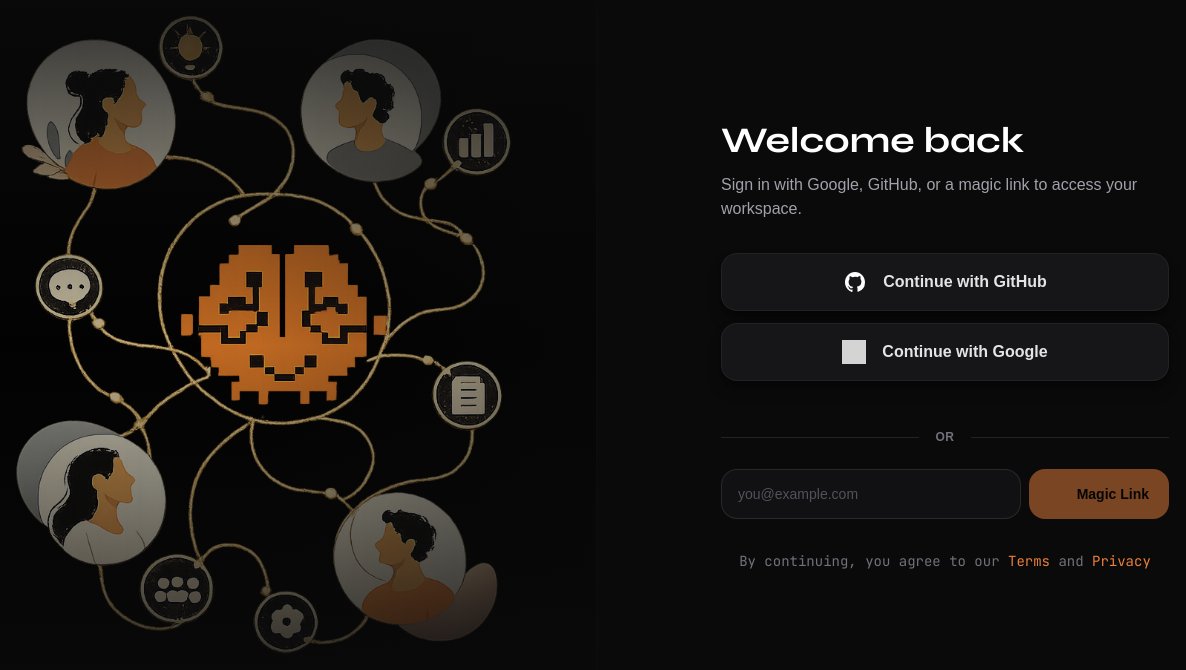
Test: Login page › keeps the inbox confirmation visible after sending a magic link
This screenshot has width=1186, height=670.
Type "magic@example.com" into the field with placeholder "you@example.com". click: point(871, 494)
box: left=721, top=469, right=1021, bottom=519
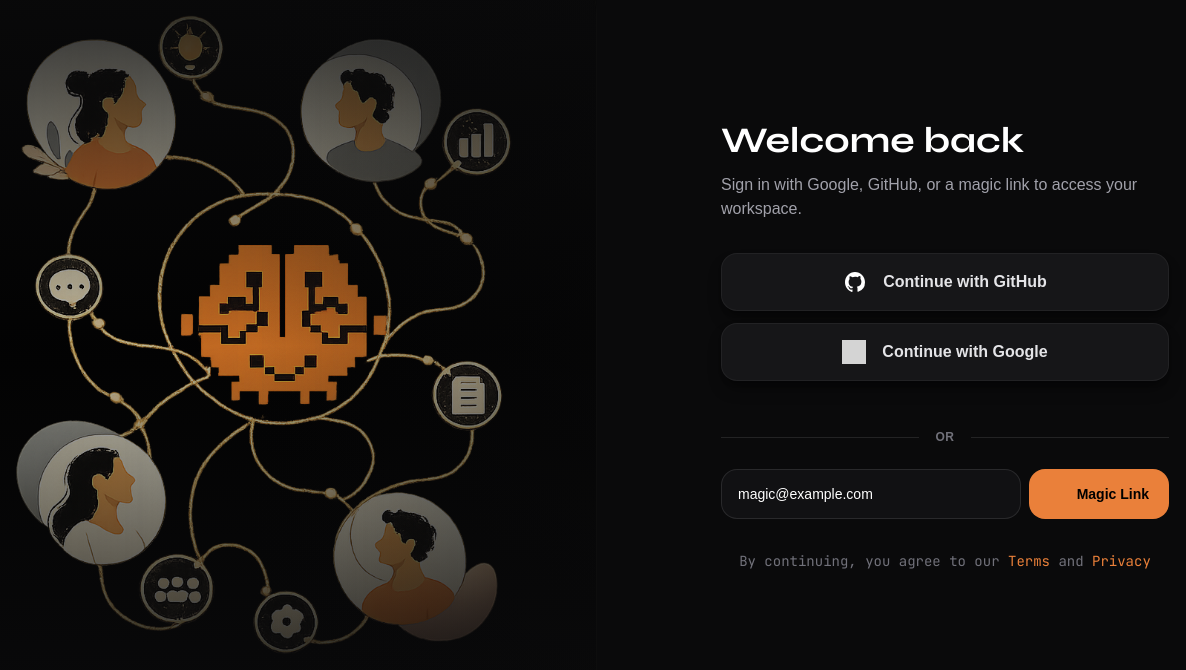
Click the button "Magic Link". click: point(1099, 494)
box: left=1029, top=469, right=1169, bottom=519
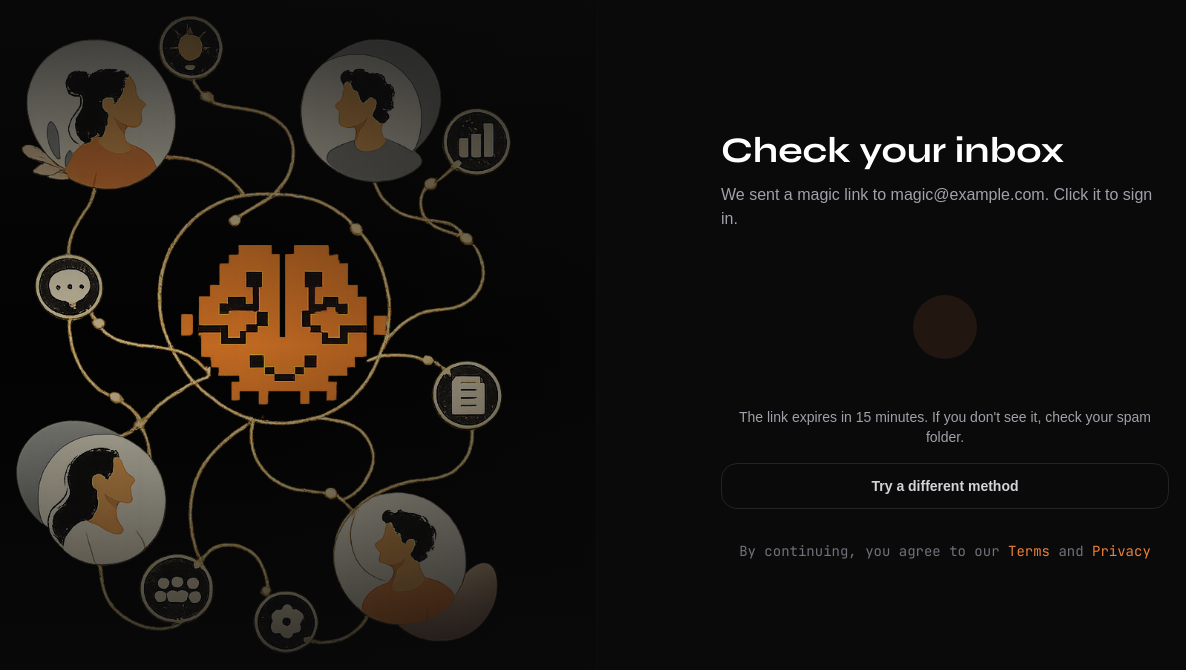
Result: the heading "Check your inbox" is shown at left=721, top=129, right=1064, bottom=172
Result: the text "We sent a magic link to magic@example.com. Click it to sign in." is shown at left=721, top=183, right=1169, bottom=231
